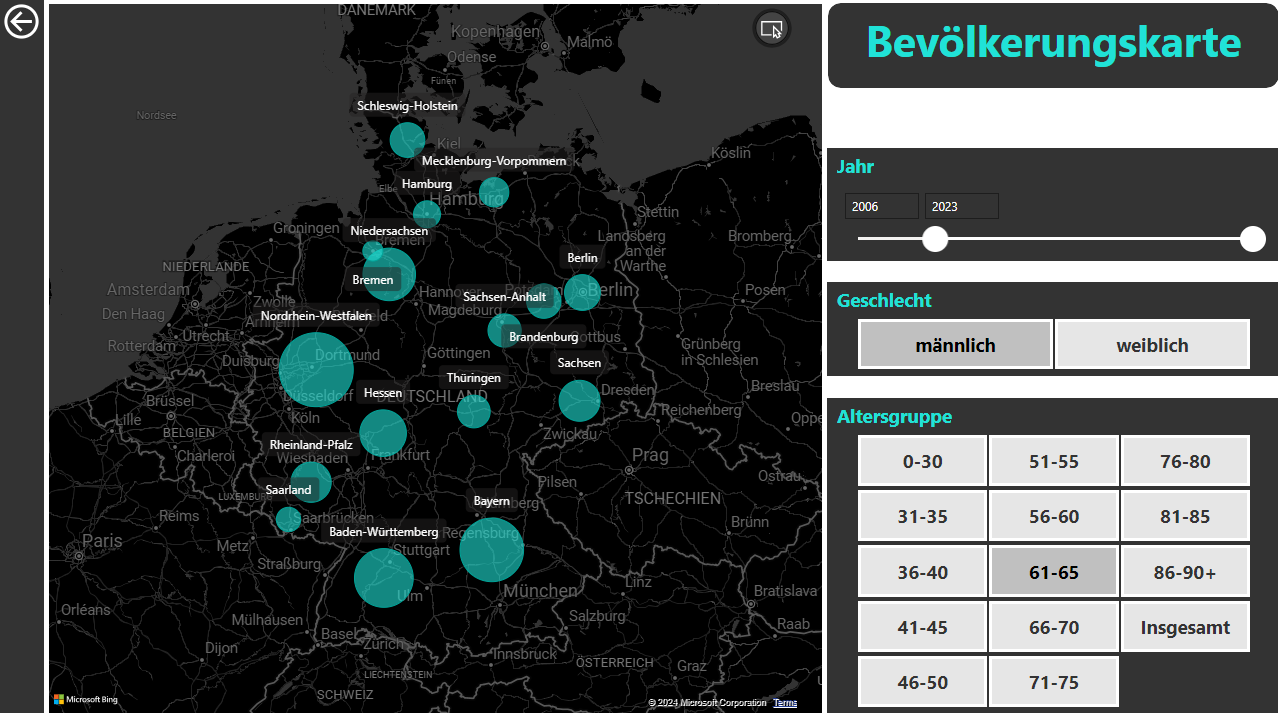

Layout of this report page (visuals, bound fields, positions):
{"tool":"powerbi","page":{"name":"Bevoelkerungsverteilungskarte","canvas":[1280,720],"ordinal":1},"visuals":[{"type":"map","fields":{"Category":["Region.Gebiet"],"Size":["Sum(Bevölkerung: Bundesländer, Stichtag, Geschlecht, Altersjahre.Bevölkerung)"]},"box":[44.8,0,783.6,720],"z":0},{"type":"shape","title":"Left Nav Background","box":[0,0,45,720],"z":1000},{"type":"slicer","title":"Geschlecht","fields":{"Values":["Bevölkerung: Bundesländer, Stichtag, Geschlecht, Altersjahre.Geschlecht"]},"box":[828.4,283,451.3,94],"z":2000},{"type":"slicer","title":"Altersgruppe","fields":{"Values":["Altergruppe.Altersgruppe"]},"box":[828.4,398.5,451.3,316.1],"z":3000},{"type":"slicer","title":"Jahr","fields":{"Values":["Jahr.Jahr"]},"box":[828.4,148.7,451.3,113.7],"z":5000},{"type":"actionButton","box":[0,0,45,45],"z":6000},{"type":"shape","box":[829,4,451,85],"z":7000},{"type":"textbox","box":[829,7,451,82],"z":8000}]}

Visuals, with their boxes in screenshot pixels (x1, y1, x2, y2), scaled from the page's 1280x720 canvas onto the 1278x713 screenshot:
map - Region.Gebiet x Sum(Bevölkerung: Bundesländer, Stichtag, Geschlecht, Altersjahre.Bevölkerung): Rect(45, 0, 827, 712)
"Left Nav Background" shape: Rect(0, 0, 45, 712)
"Geschlecht" slicer: Rect(827, 280, 1277, 373)
"Altersgruppe" slicer: Rect(827, 395, 1277, 708)
"Jahr" slicer: Rect(827, 147, 1277, 260)
actionButton: Rect(0, 0, 45, 45)
shape: Rect(828, 4, 1277, 88)
textbox: Rect(828, 7, 1277, 88)
